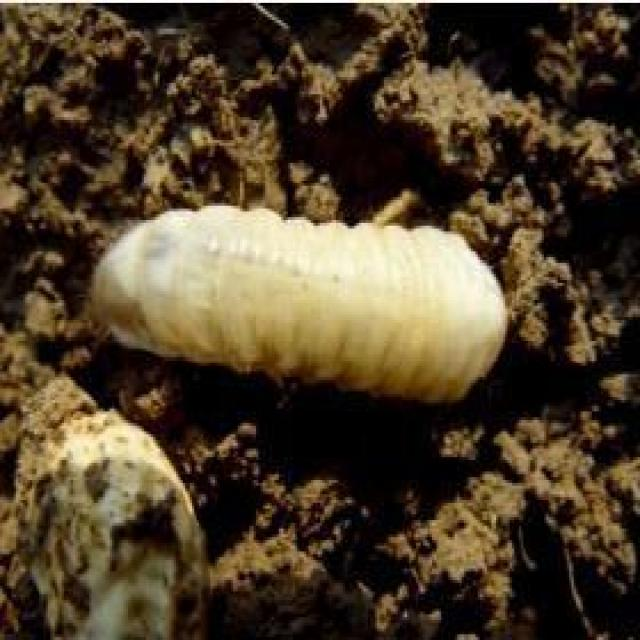Grub-Adult-: (69, 181, 532, 427)
